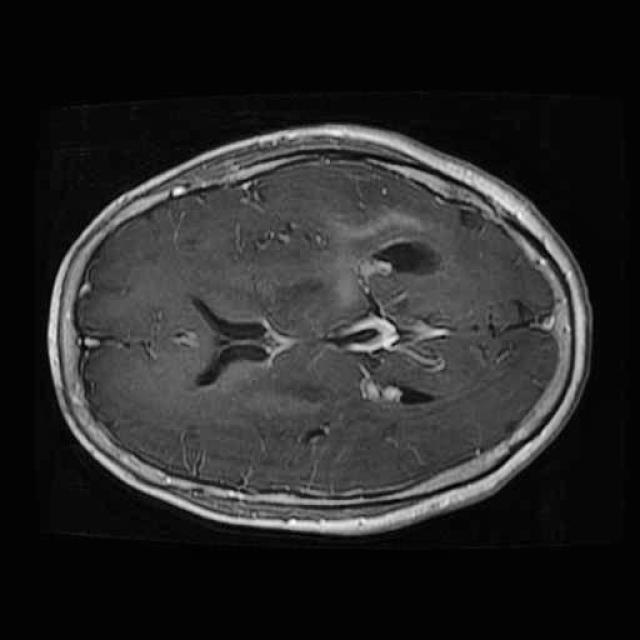Tumor: (276, 141, 480, 250)
